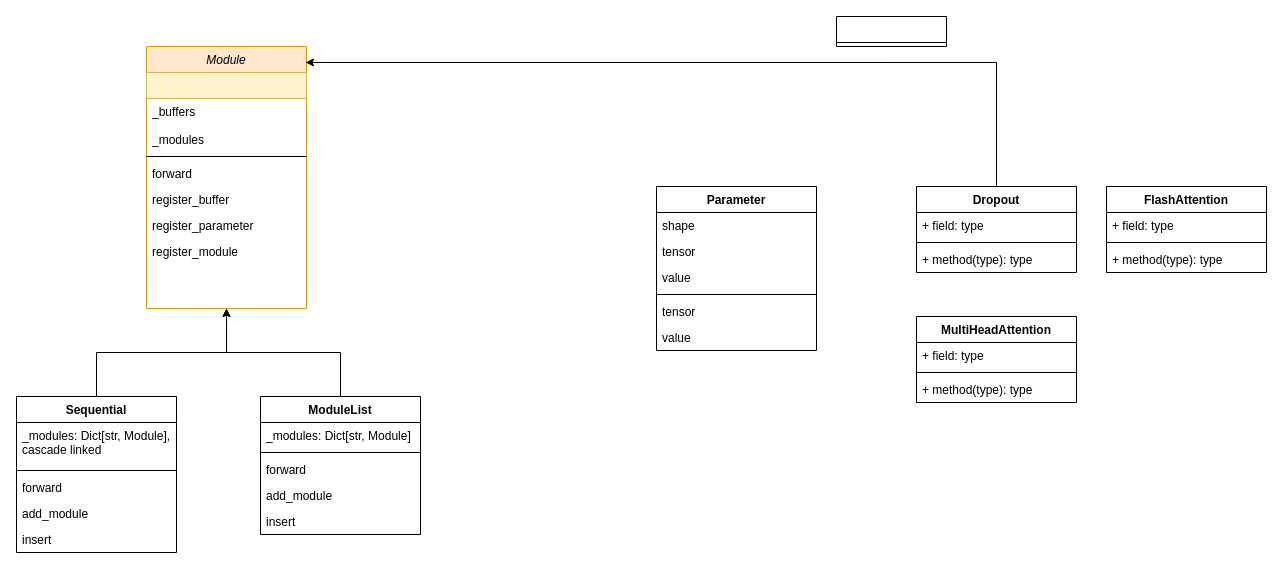
This 1283x569 diagram has some shape labels left out. Each missing label, with the centre of its shape:
_parameters: the point at 226,85
frontend.nn: the point at 891,31
